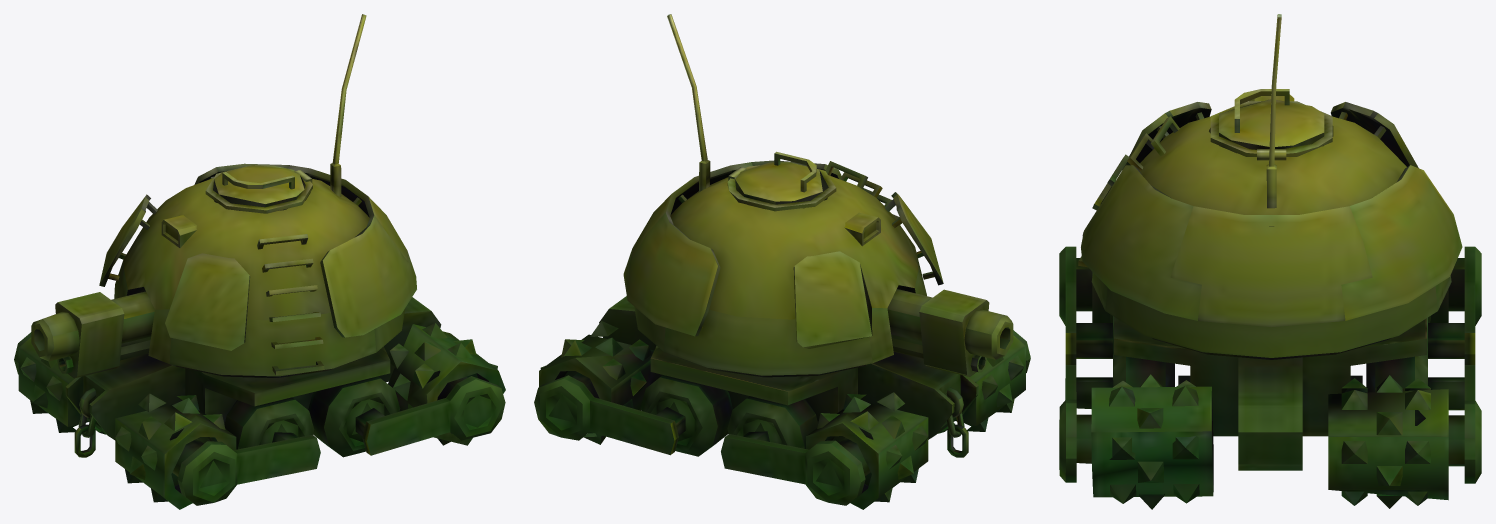
File: vehicle_near.glb
3 views of the same model, side by side, from view 1: azimuth 30°, elevation 25°; view 2: azimuth 150°, elevation 25°; view 3: azimuth 270°, elevation 25° (orthographic). The views are drawn at different scales.
Visible parts, largest first — view 1: Object_25, Object_7, Object_15, Object_13, Object_11, Object_9, Object_19; view 2: Object_25, Object_7, Object_23, Object_21, Object_19, Object_17, Object_11; view 3: Object_25, Object_7, Object_9, Object_17, Object_23, Object_15, Object_13, Object_21.
Part boxes in pixels (x1,y1,x2,y2): Object_25: [31, 14, 416, 378]; Object_7: [65, 297, 441, 457]; Object_15: [308, 376, 505, 457]; Object_13: [172, 397, 320, 505]; Object_11: [115, 393, 236, 509]; Object_9: [388, 323, 505, 445]; Object_19: [18, 337, 105, 434]; Object_25: [623, 14, 1013, 377]; Object_7: [599, 296, 978, 457]; Object_23: [534, 372, 733, 456]; Object_21: [721, 396, 870, 505]; Object_19: [806, 392, 928, 509]; Object_17: [539, 321, 661, 444]; Object_11: [938, 335, 1025, 433]; Object_25: [1078, 14, 1462, 359]; Object_7: [1114, 317, 1426, 470]; Object_9: [1091, 374, 1213, 509]; Object_17: [1328, 375, 1448, 508]; Object_23: [1350, 352, 1481, 483]; Object_15: [1059, 352, 1190, 482]; Object_13: [1059, 246, 1113, 364]; Object_21: [1427, 246, 1481, 364].
Bounding box in the file's own units: 2.9 × 2.69 × 2.17.
1 material, 1 textured.
